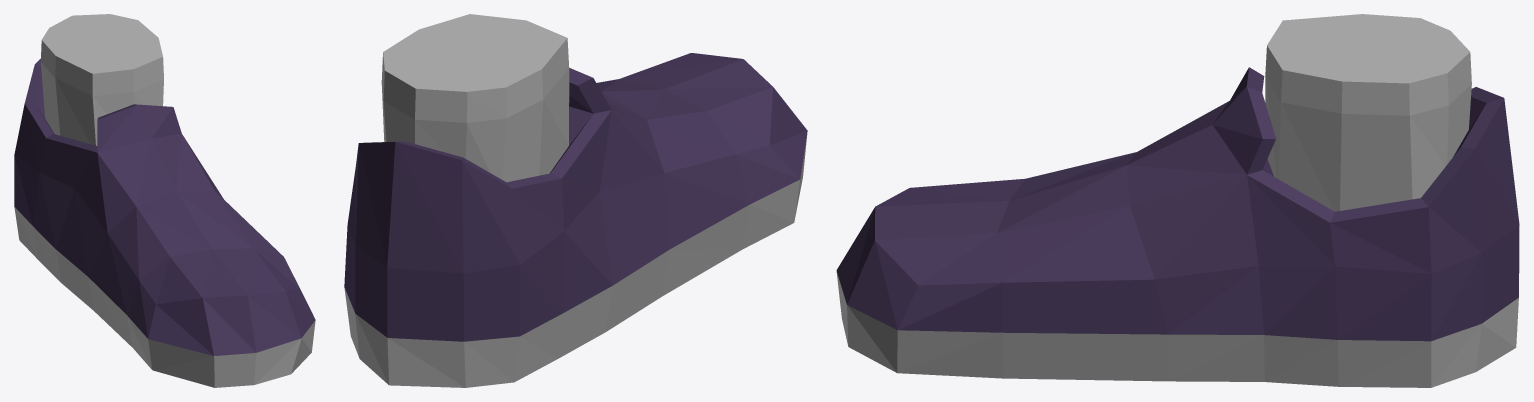
The model's file is casual_feet_right.gltf.
3 views of the same model, side by side, from view 1: azimuth 30°, elevation 25°; view 2: azimuth 150°, elevation 25°; view 3: azimuth 270°, elevation 25° (orthographic). The views are drawn at different scales.
Parts seen in each view (by area): view 1: shoe; view 2: shoe; view 3: shoe.
Boxes of the visible parts, x1,y1,x2,y2 form: shoe: [14, 14, 315, 387]; shoe: [344, 14, 807, 387]; shoe: [836, 14, 1519, 387].
Size of the model in its own units: 0.1164 by 0.1384 by 0.2877.
